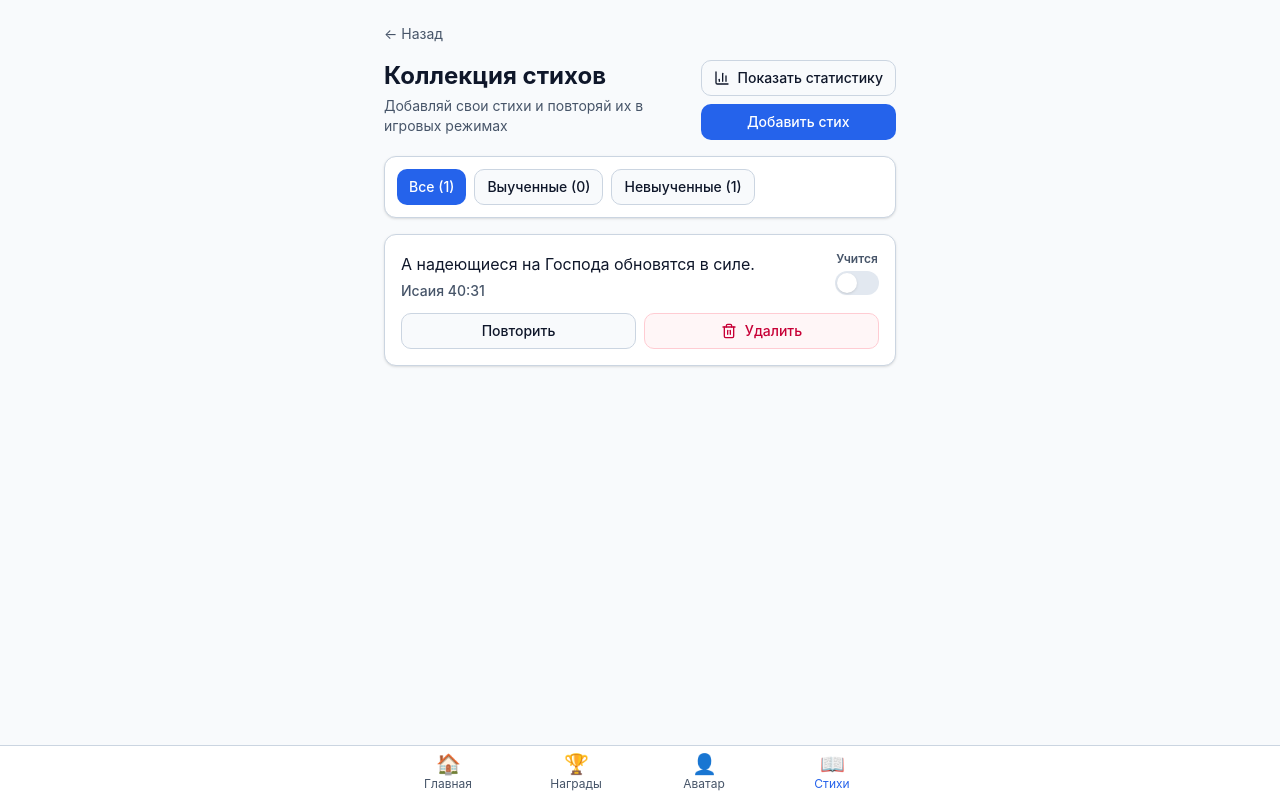
Test case: CollectionPage (integration) › toggles verse status between learning and mastered
This screenshot has width=1280, height=800.
Expected: the text "А надеющиеся на Господа обновятся в силе." is shown, [401,254,755,274]
Click the switch named "Отметить выученным": (857, 283) [835,271,879,295]
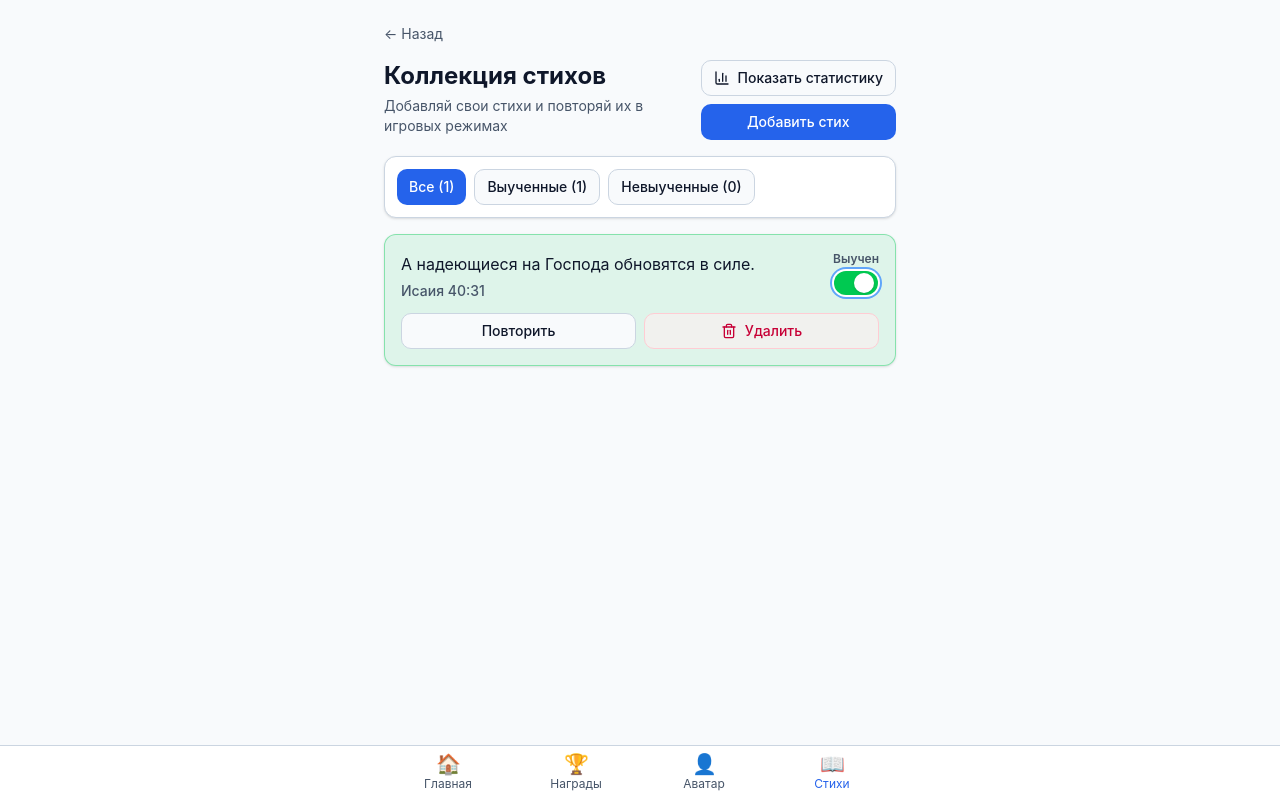
Now the button "Выученные (1)" is shown, box [474,169,600,205]
Now the button "Невыученные (0)" is shown, box [608,169,755,205]
Click the switch named "Сделать невыученным": (856, 283) [834,271,878,295]
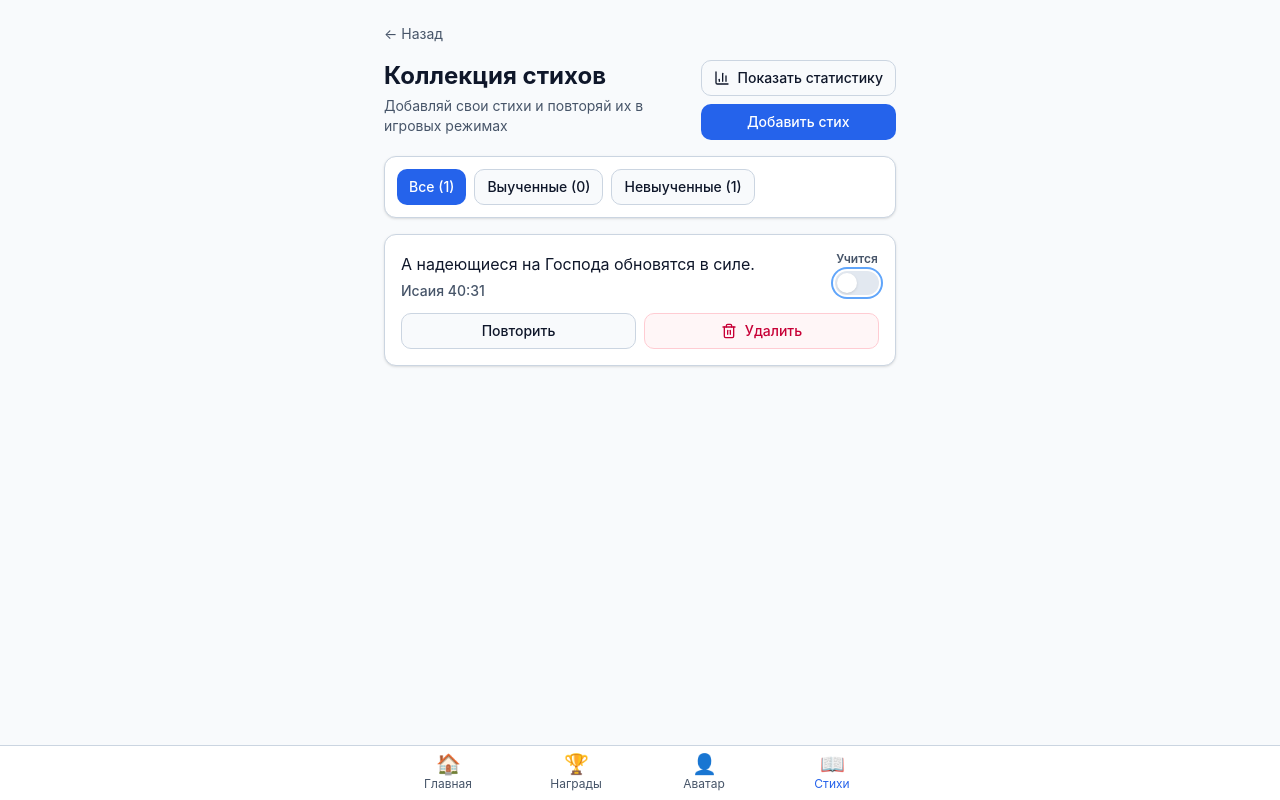
Now the button "Выученные (0)" is shown, box [474,169,604,205]
Now the button "Невыученные (1)" is shown, box [612,169,755,205]
